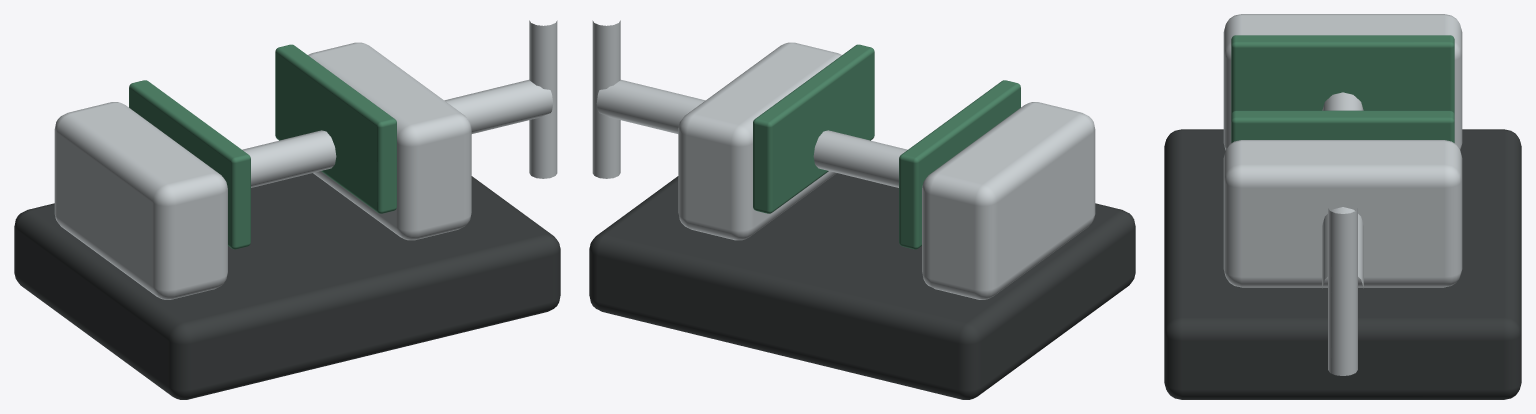
The model's file is clockmaker-and-watch-repair-case-vise-c42158f3__30602.glb.
3 renders of one model, left to right at view 1: azimuth 30°, elevation 25°; view 2: azimuth 150°, elevation 25°; view 3: azimuth 270°, elevation 25°, orthographic. The views are drawn at different scales.
Parts seen in each view (by area): view 1: case-vise; view 2: case-vise; view 3: case-vise.
Boxes of the visible parts, box(x1,y1,x2,y2) form: case-vise: box(14, 20, 560, 399); case-vise: box(589, 20, 1135, 399); case-vise: box(1164, 14, 1521, 399).
Bounding box in the file's own units: 0.19 × 0.085 × 0.12.
